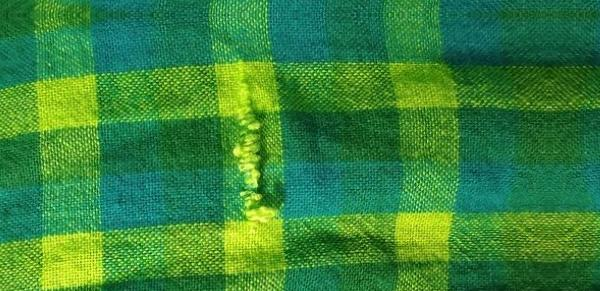knot: (227, 58, 285, 227)
